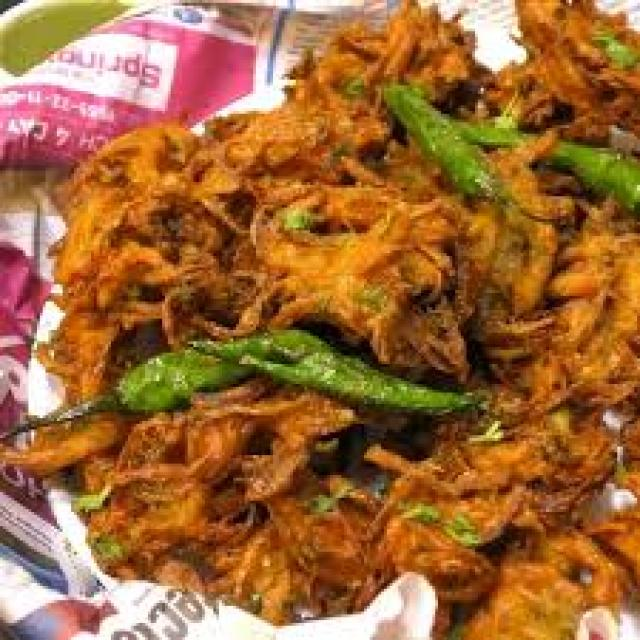BAJI: (0, 0, 637, 637)
